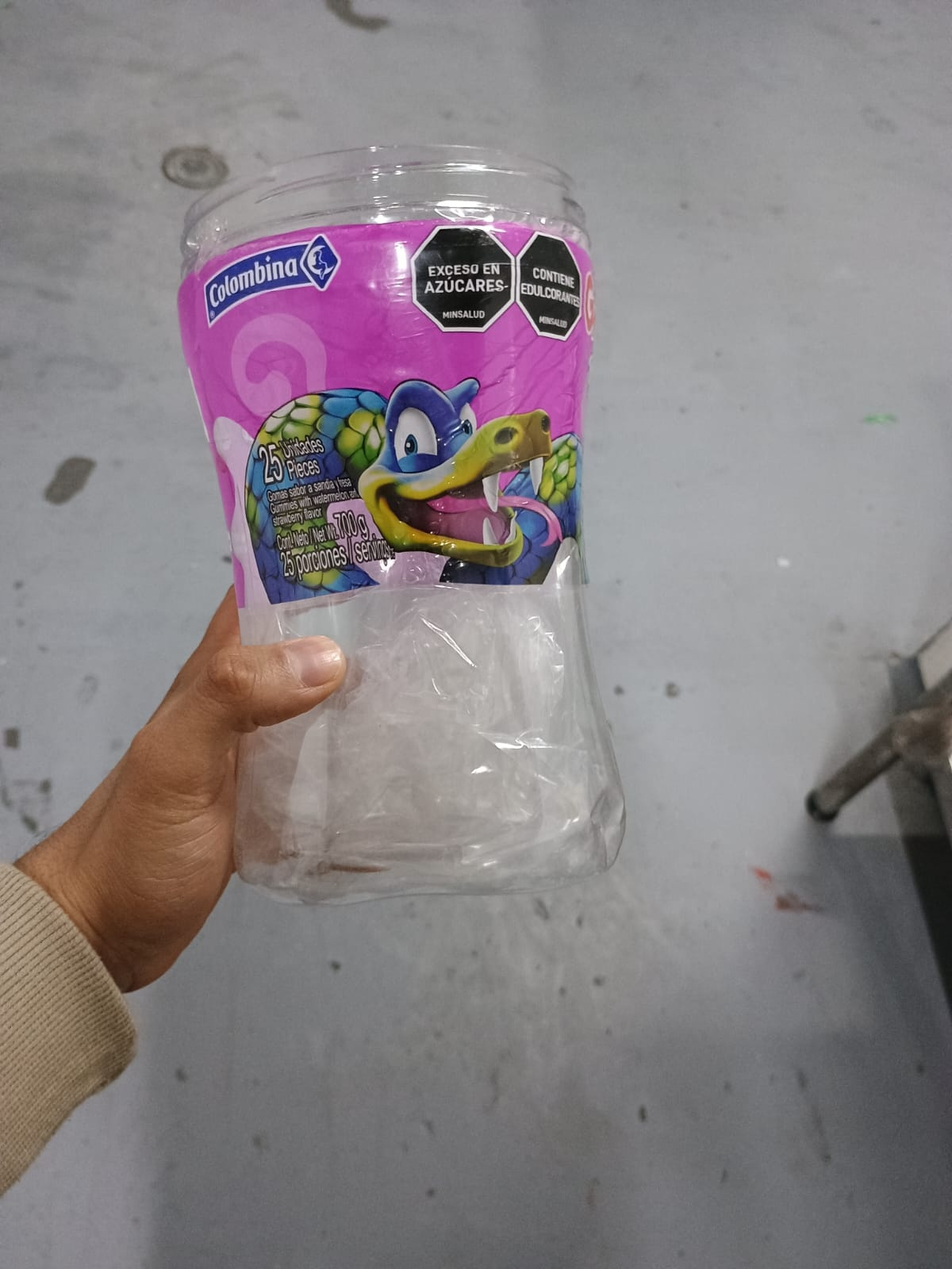Plastico: (179, 140, 627, 901)
